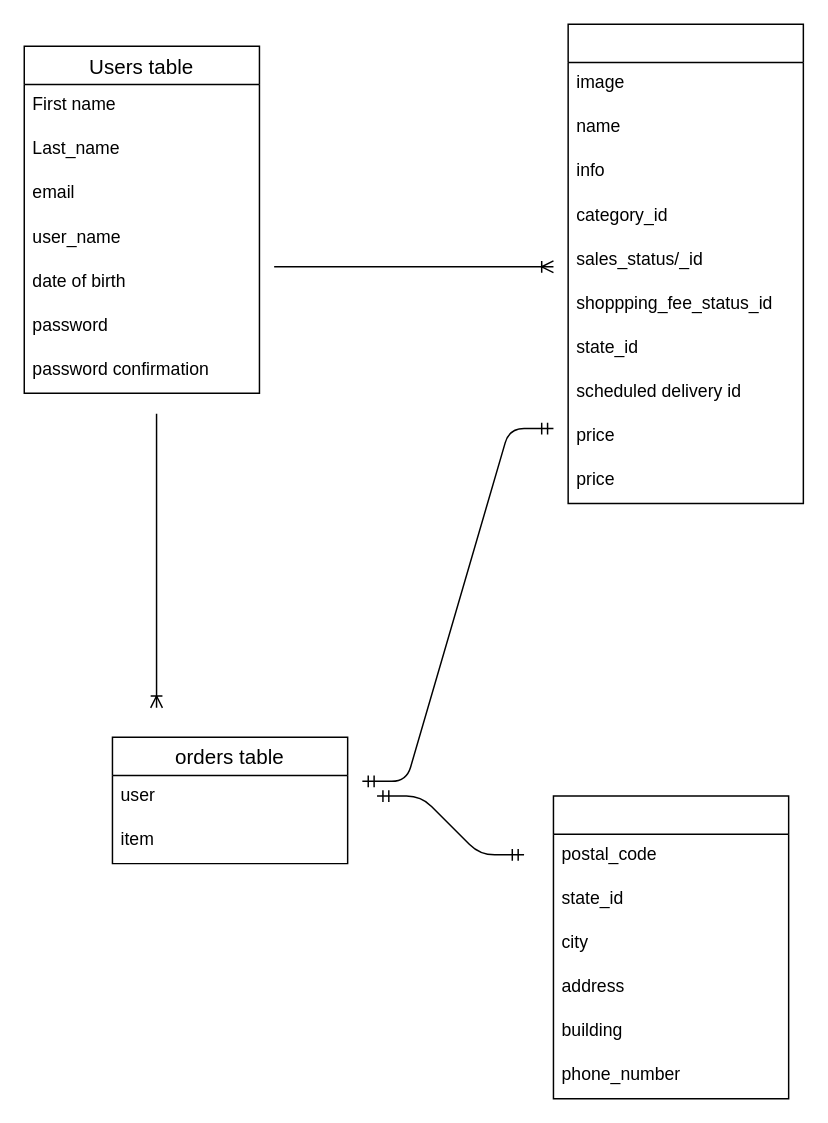
Image size: 828x1123. Some labels were removed from this diagram. Each missing label, with the box of its shape:
items table: (567, 23, 803, 503)
sending_information: (552, 795, 789, 1099)
